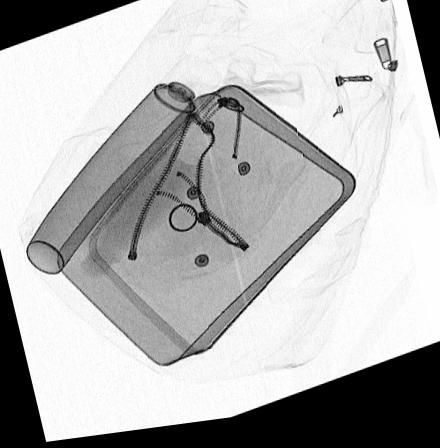Sprayer: (24, 56, 224, 276)
